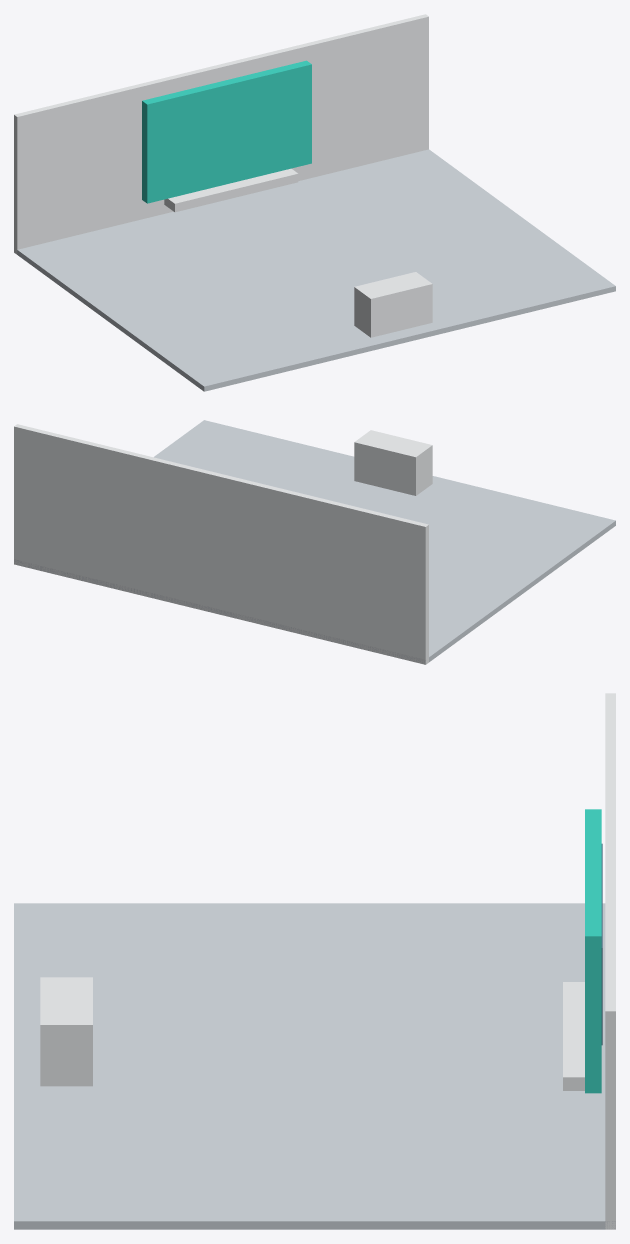
The picture shows the model from 3 angles, top to bottom: view 1: azimuth 30°, elevation 25°; view 2: azimuth 150°, elevation 25°; view 3: azimuth 270°, elevation 25°; orthographic projection. The views are drawn at different scales.
Parts seen in each view (by area): view 1: Exhibition Booth Concept; view 2: Exhibition Booth Concept; view 3: Exhibition Booth Concept.
Part boxes in pixels (box(x1,y1,x2,y2)): Exhibition Booth Concept: box(14, 14, 615, 391); Exhibition Booth Concept: box(14, 420, 615, 664); Exhibition Booth Concept: box(14, 693, 615, 1229).
Size of the model in its own units: 10 by 3.2 by 8.
